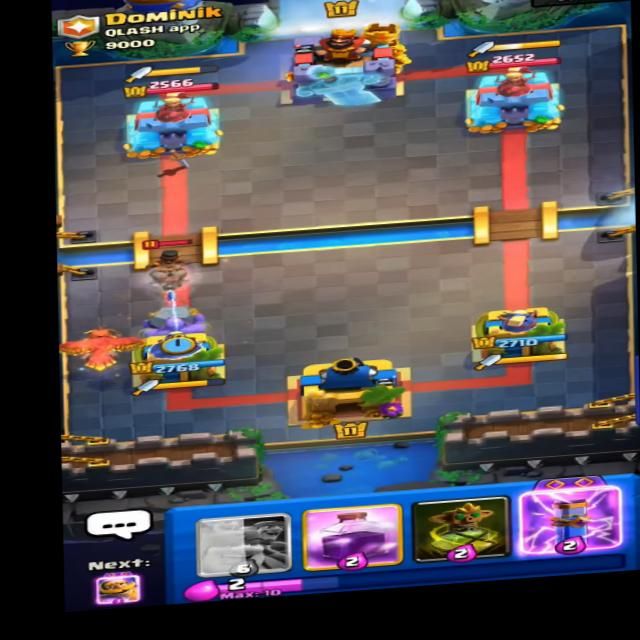Ramrider: (143, 242, 194, 294)
